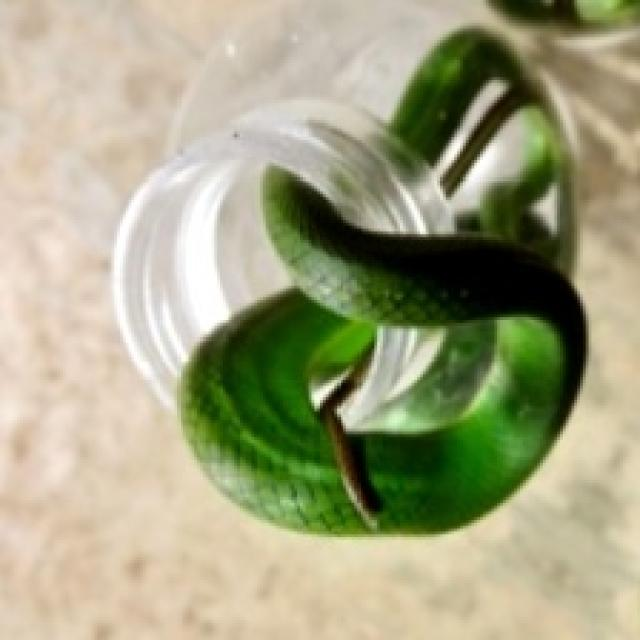red-tailed green ratsnake: (177, 29, 583, 531)
